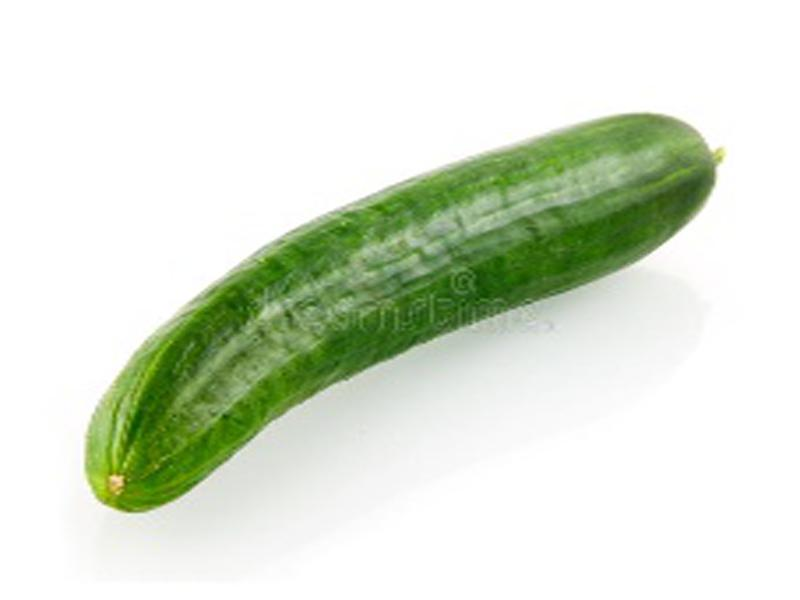Cucumber: (85, 114, 715, 513)
